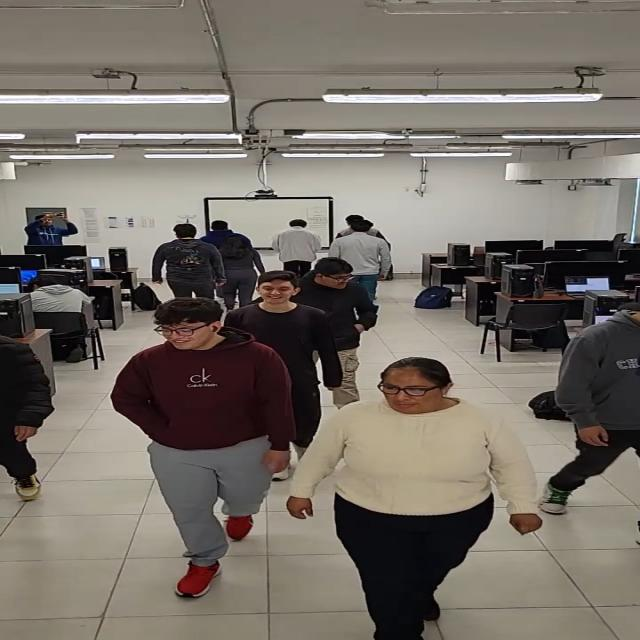Persona: (284, 356, 542, 640), (112, 297, 299, 604), (217, 270, 346, 481), (540, 307, 640, 516), (289, 257, 382, 408), (0, 331, 55, 502), (153, 224, 227, 304), (330, 219, 391, 310), (212, 233, 266, 309), (271, 218, 323, 273), (333, 213, 393, 252), (200, 220, 237, 243)
